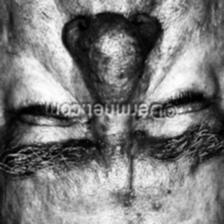Non-Cancerous Skin Condition: (42, 6, 163, 96)
